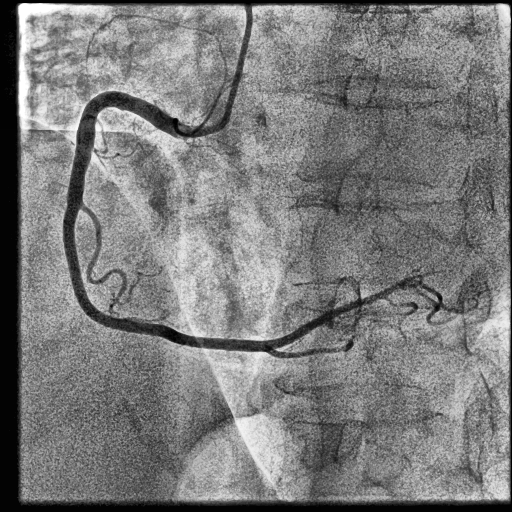pborca: (273, 283, 399, 349)
pda: (270, 340, 353, 359)
rca: (63, 91, 275, 354)
